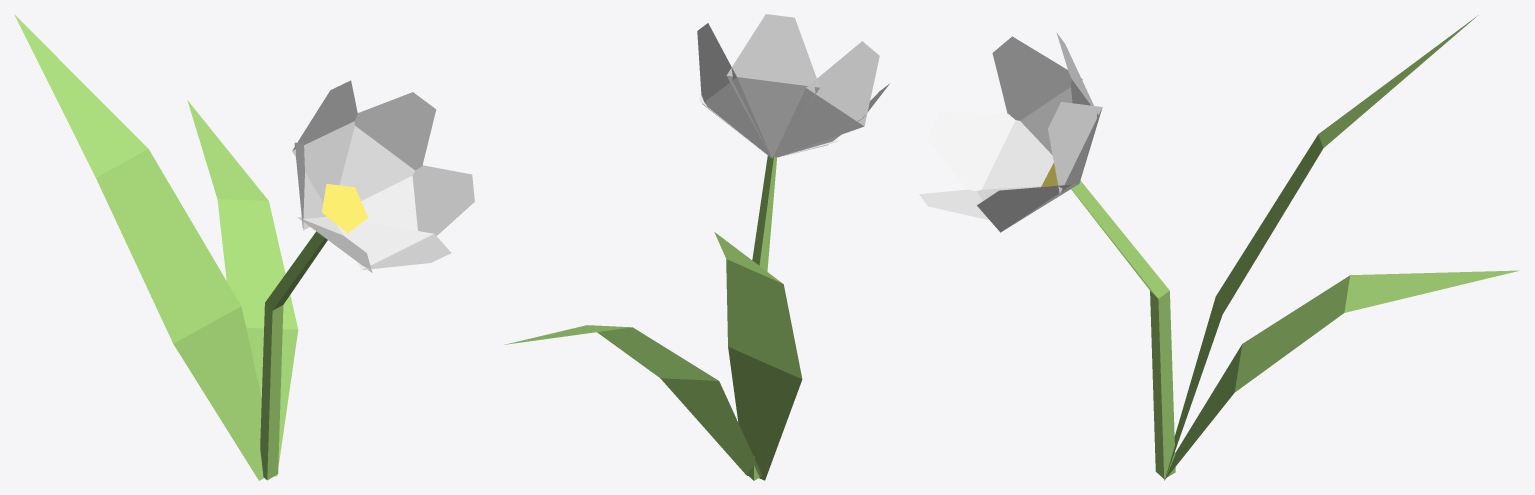
File: Flower_e_OneS_07.fbx
3 renders of one model, left to right at view 1: azimuth 30°, elevation 25°; view 2: azimuth 150°, elevation 25°; view 3: azimuth 270°, elevation 25°, orthographic. The views are drawn at different scales.
Parts seen in each view (by area): view 1: Flower_e_OneS_07; view 2: Flower_e_OneS_07; view 3: Flower_e_OneS_07.
Part boxes in pixels (bbox=[...]): Flower_e_OneS_07: bbox=[14, 14, 474, 480]; Flower_e_OneS_07: bbox=[504, 14, 889, 480]; Flower_e_OneS_07: bbox=[919, 15, 1519, 480].
Bounding box in the file's own units: 19.73 × 34.33 × 41.48.
